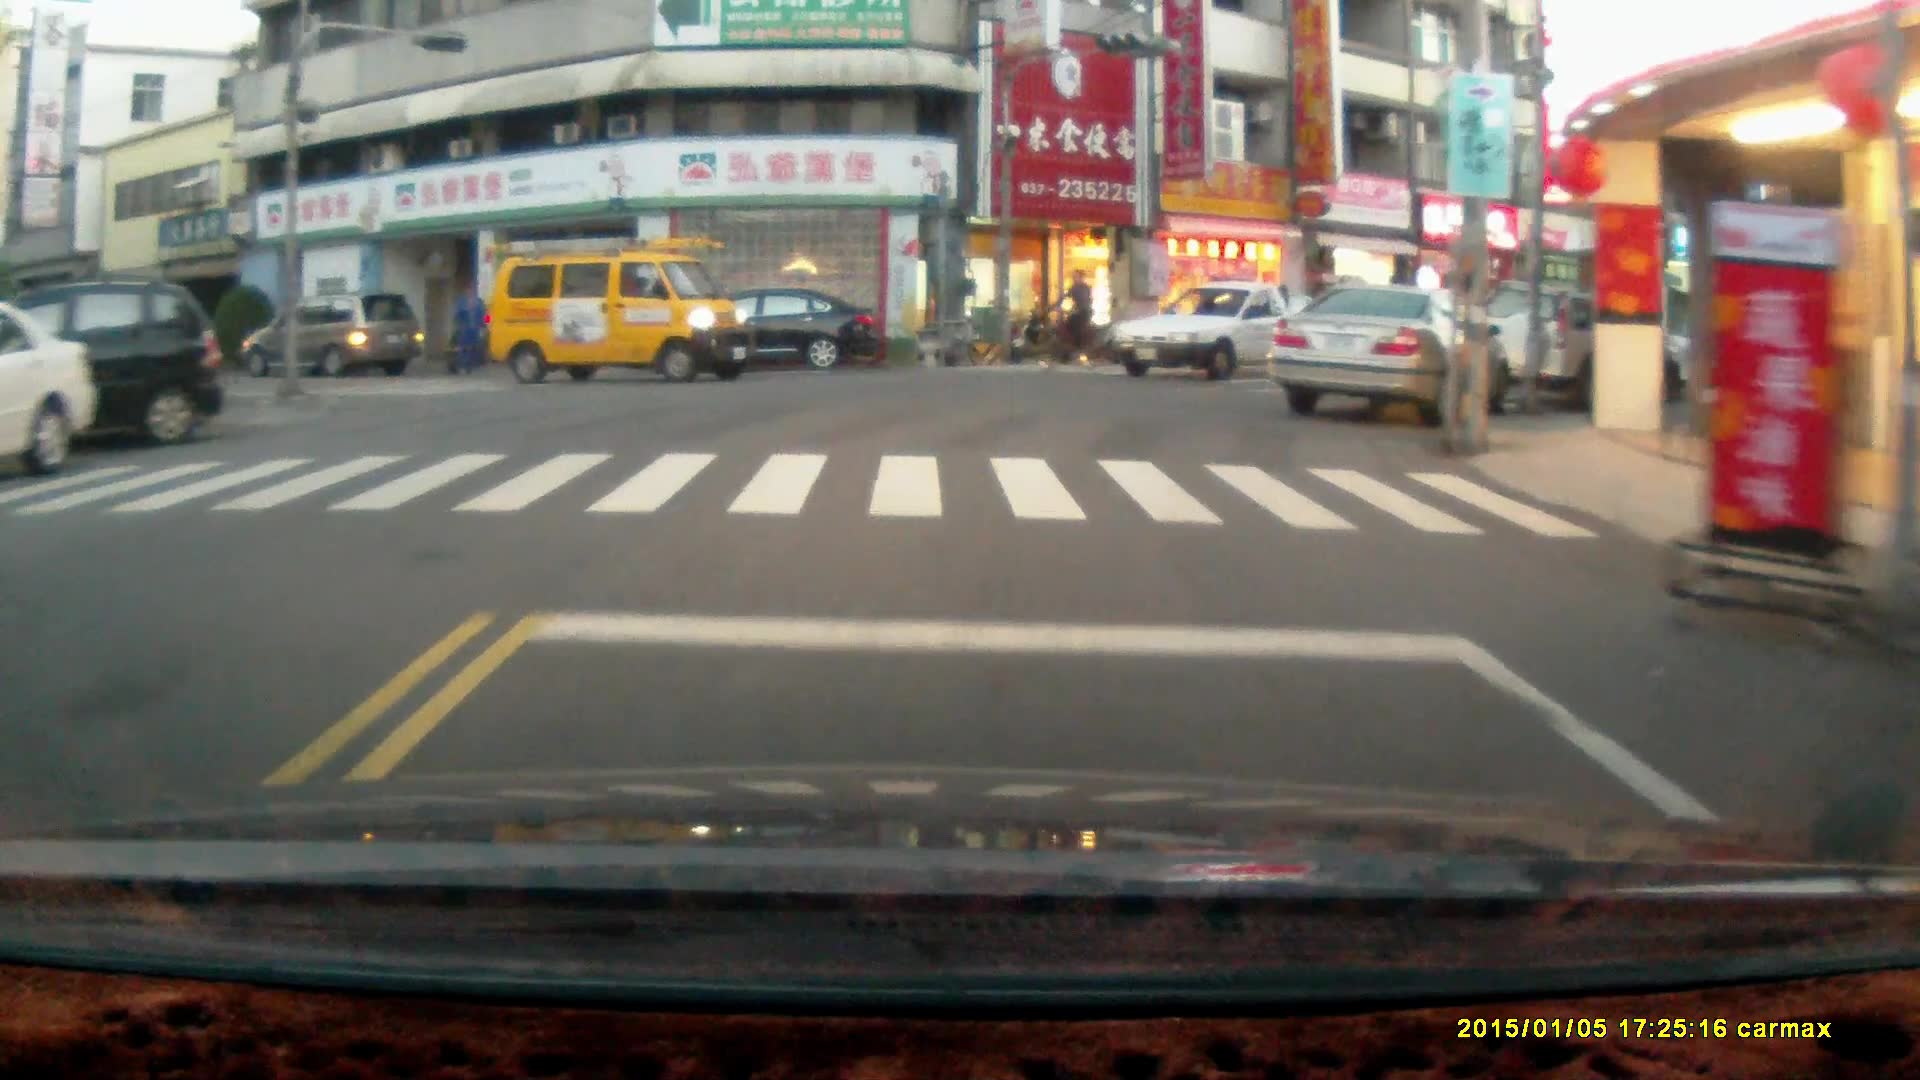pedestrian: (449, 282, 484, 373)
rider: (1029, 265, 1108, 372)
vehicle: (1, 276, 231, 459), (488, 237, 746, 388), (1267, 280, 1522, 427), (1466, 283, 1704, 415), (1111, 277, 1346, 384), (675, 289, 883, 375), (238, 294, 433, 381), (1, 313, 100, 478)
